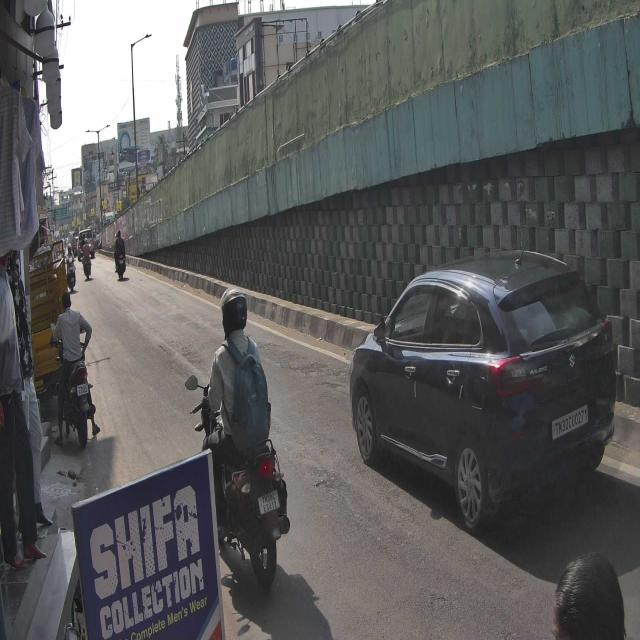single_rider: (184, 286, 289, 592)
